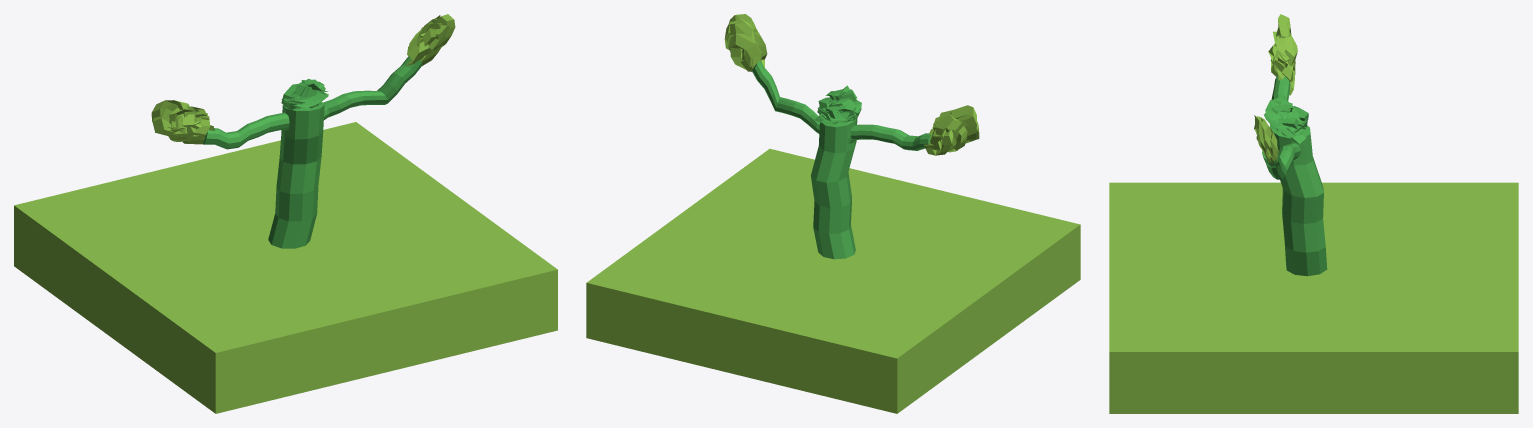
3 views of the same model, side by side, from view 1: azimuth 30°, elevation 25°; view 2: azimuth 150°, elevation 25°; view 3: azimuth 270°, elevation 25° (orthographic). The views are drawn at different scales.
Parts seen in each view (by area): view 1: mesh_1537693769, group_1621394105, group_1873837724, group_329226422, group_1890508263, group_126573961, group_1193566118; view 2: mesh_1537693769, group_1621394105, group_1873837724, group_1890508263, group_329226422, group_126573961, group_1193566118, group_1031437510; view 3: mesh_1537693769, group_1621394105, group_1873837724, group_1193566118, group_329226422, group_1890508263, group_1031437510.
Boxes of the visible parts, x1,y1,x2,y2 form: mesh_1537693769: (14,122,557,413); group_1621394105: (268,102,324,248); group_1873837724: (151,100,214,144); group_329226422: (323,56,422,119); group_1890508263: (406,14,455,65); group_126573961: (203,112,289,149); group_1193566118: (281,78,328,108); mesh_1537693769: (586,148,1080,413); group_1621394105: (811,118,857,259); group_1873837724: (924,105,979,155); group_1890508263: (724,14,767,71); group_329226422: (751,61,819,133); group_126573961: (843,124,931,150); group_1193566118: (814,89,861,123); group_1031437510: (821,85,861,121); mesh_1537693769: (1109,182,1518,413); group_1621394105: (1270,124,1327,276); group_1873837724: (1268,14,1297,95); group_1193566118: (1264,97,1306,143); group_329226422: (1262,143,1301,179); group_1890508263: (1254,115,1278,164); group_1031437510: (1265,100,1308,131).
Bounding box in the file's own units: 47 × 35.79 × 48.
